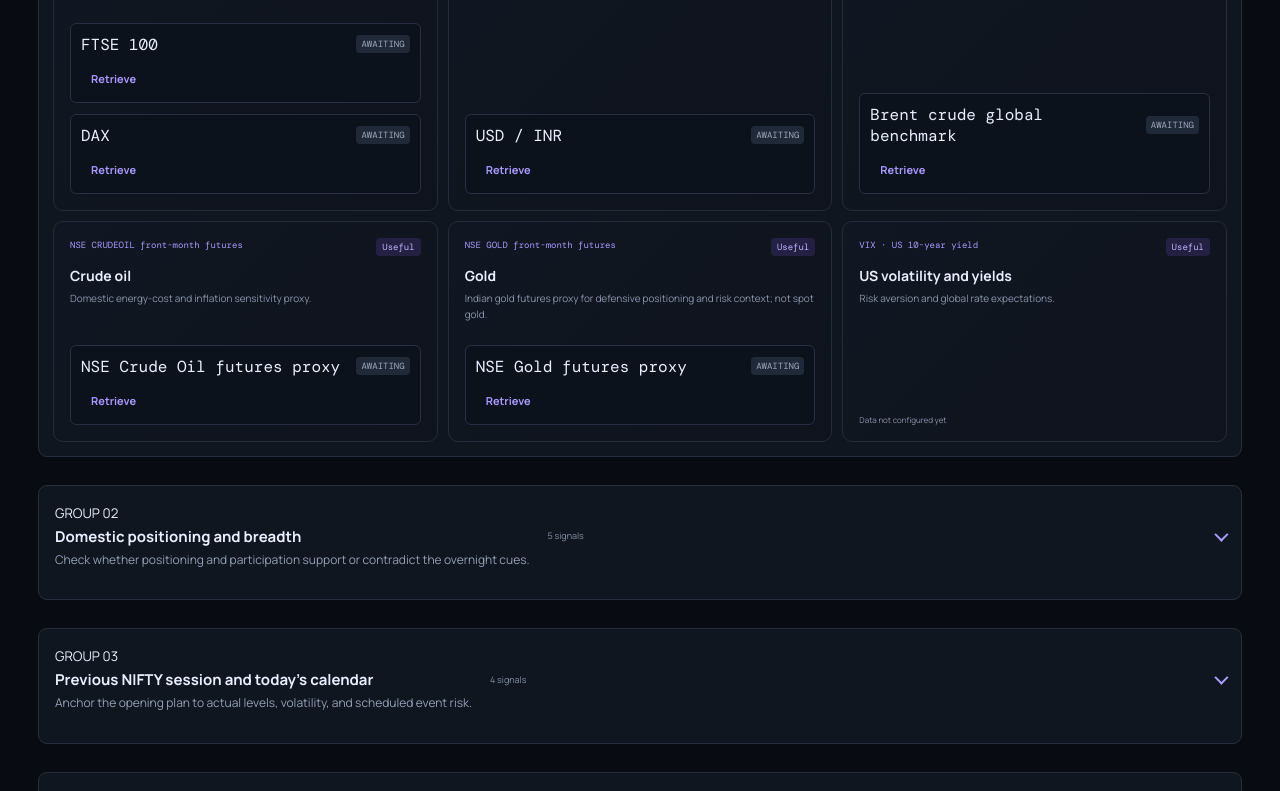
Test case: NiftyPremarket › retrieves and labels NSE gold futures as a proxy rather than spot gold
This screenshot has width=1280, height=791.
(page scrolled)
Click the button with aria-label "Retrieve NSE Gold futures proxy": (508, 400) top-left (476, 387), bottom-right (541, 414)
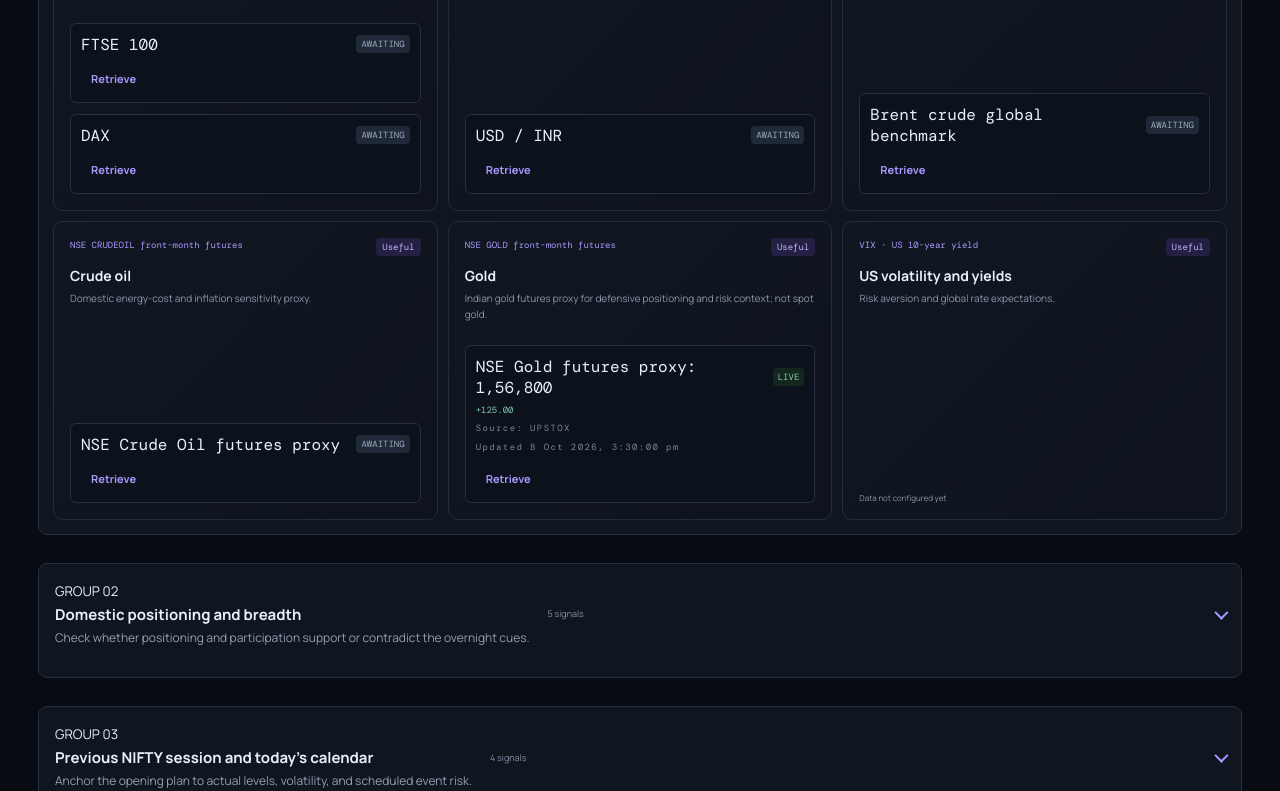
Result: the text "NSE Gold futures proxy: 1,56,800" is shown at top-left (476, 356), bottom-right (696, 398)
